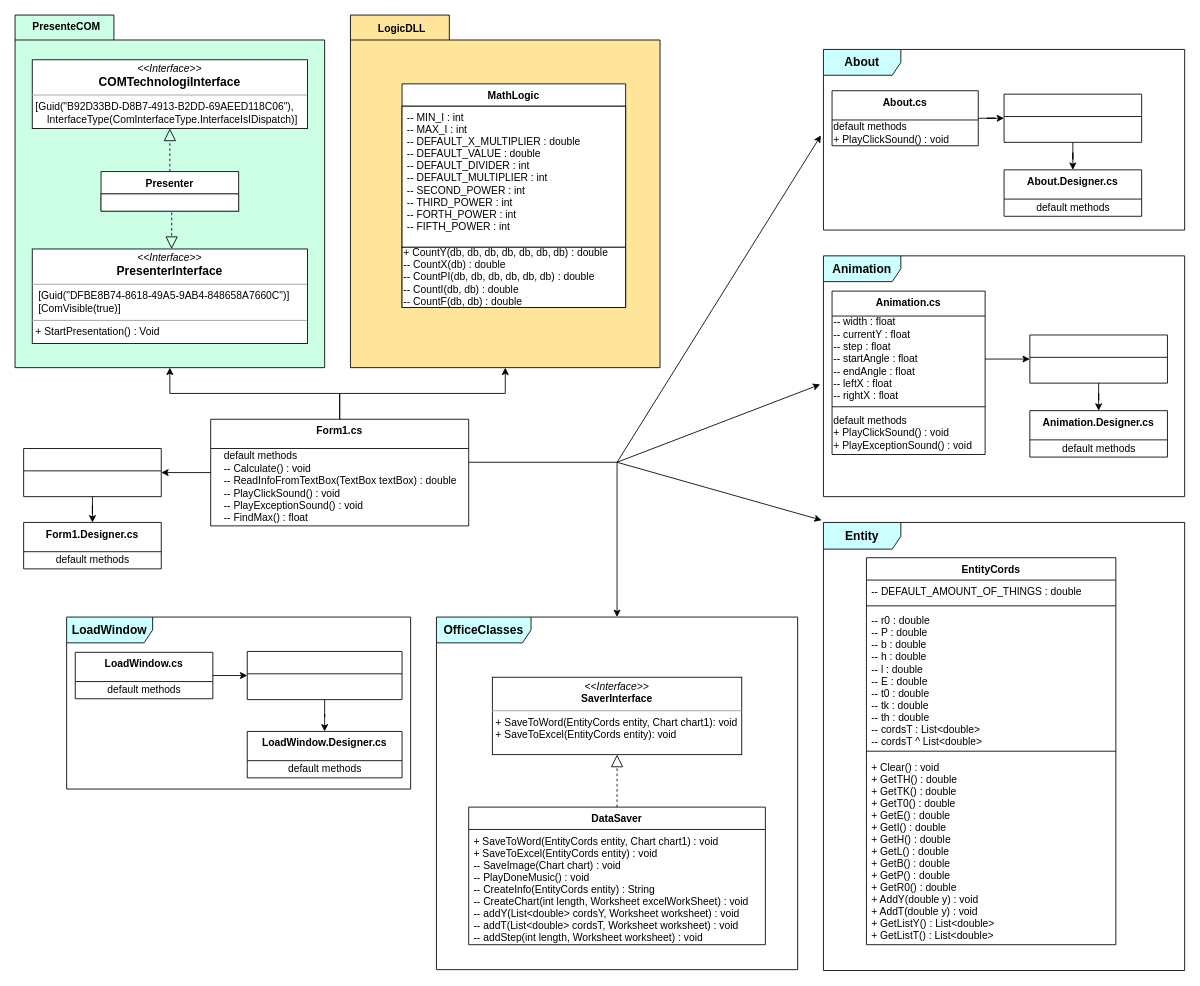
This 1200x986 diagram has some shape labels left out. The shapes that lost their labels are listed below. From the top down, each one's centre as x and y in pixels, then its label:
the point at 1072,117: About.cs [Constructor]
the point at 169,202: + StartPresentation() : void
the point at 1098,358: Animation.cs [Constructor]
the point at 92,472: Form1.cs [Constructor]
the point at 324,675: LoadWindow.cs [Constructor]
